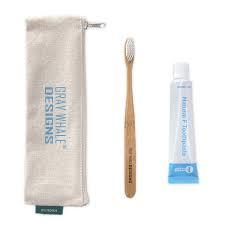toothpaste: (165, 54, 203, 190)
